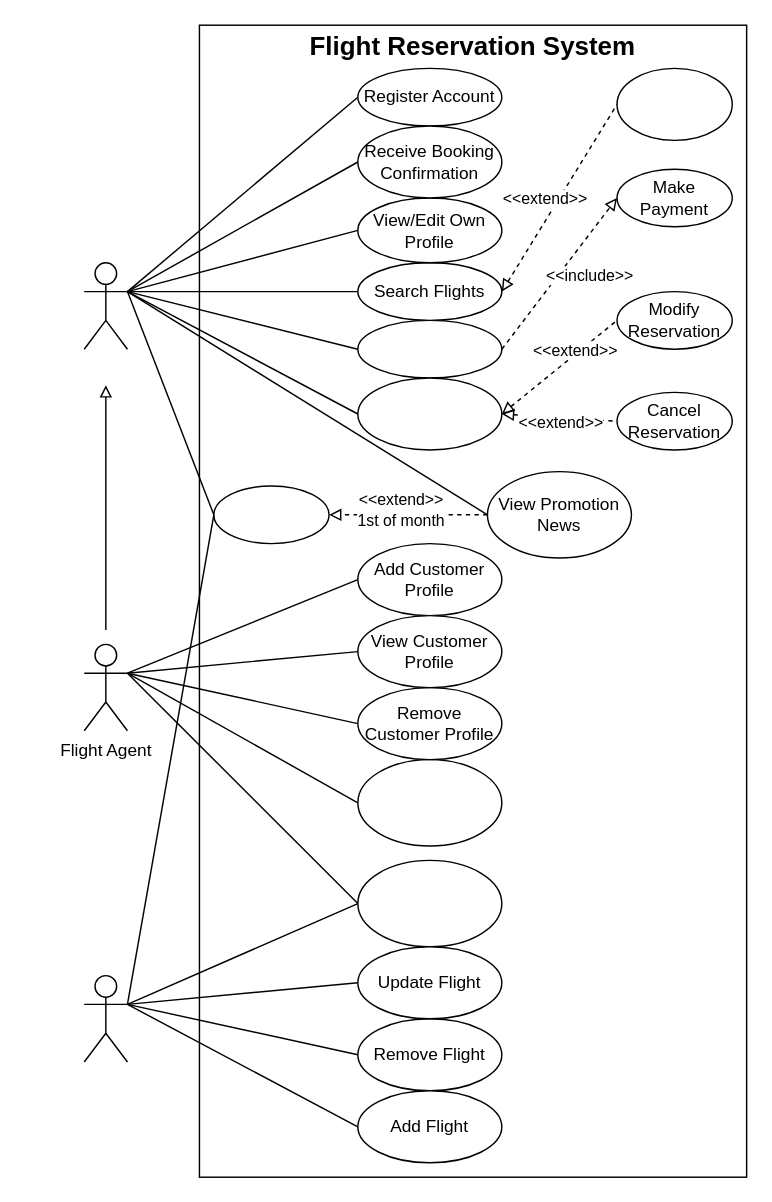
This 772x1202 diagram has some shape labels left out. The shapes that lost their labels are listed below. From the top down, each one's centre as x and y in pixels, then its label:
At [674,103]: "View Flight Details".
At [105,305]: "Customer".
At [429,348]: "Book Flight".
At [429,413]: "View Reservations".
At [270,514]: "Login".
At [429,802]: "Update Customer Profile".
At [429,903]: "View Flight Schedule".
At [105,1018]: "System Administrator".
